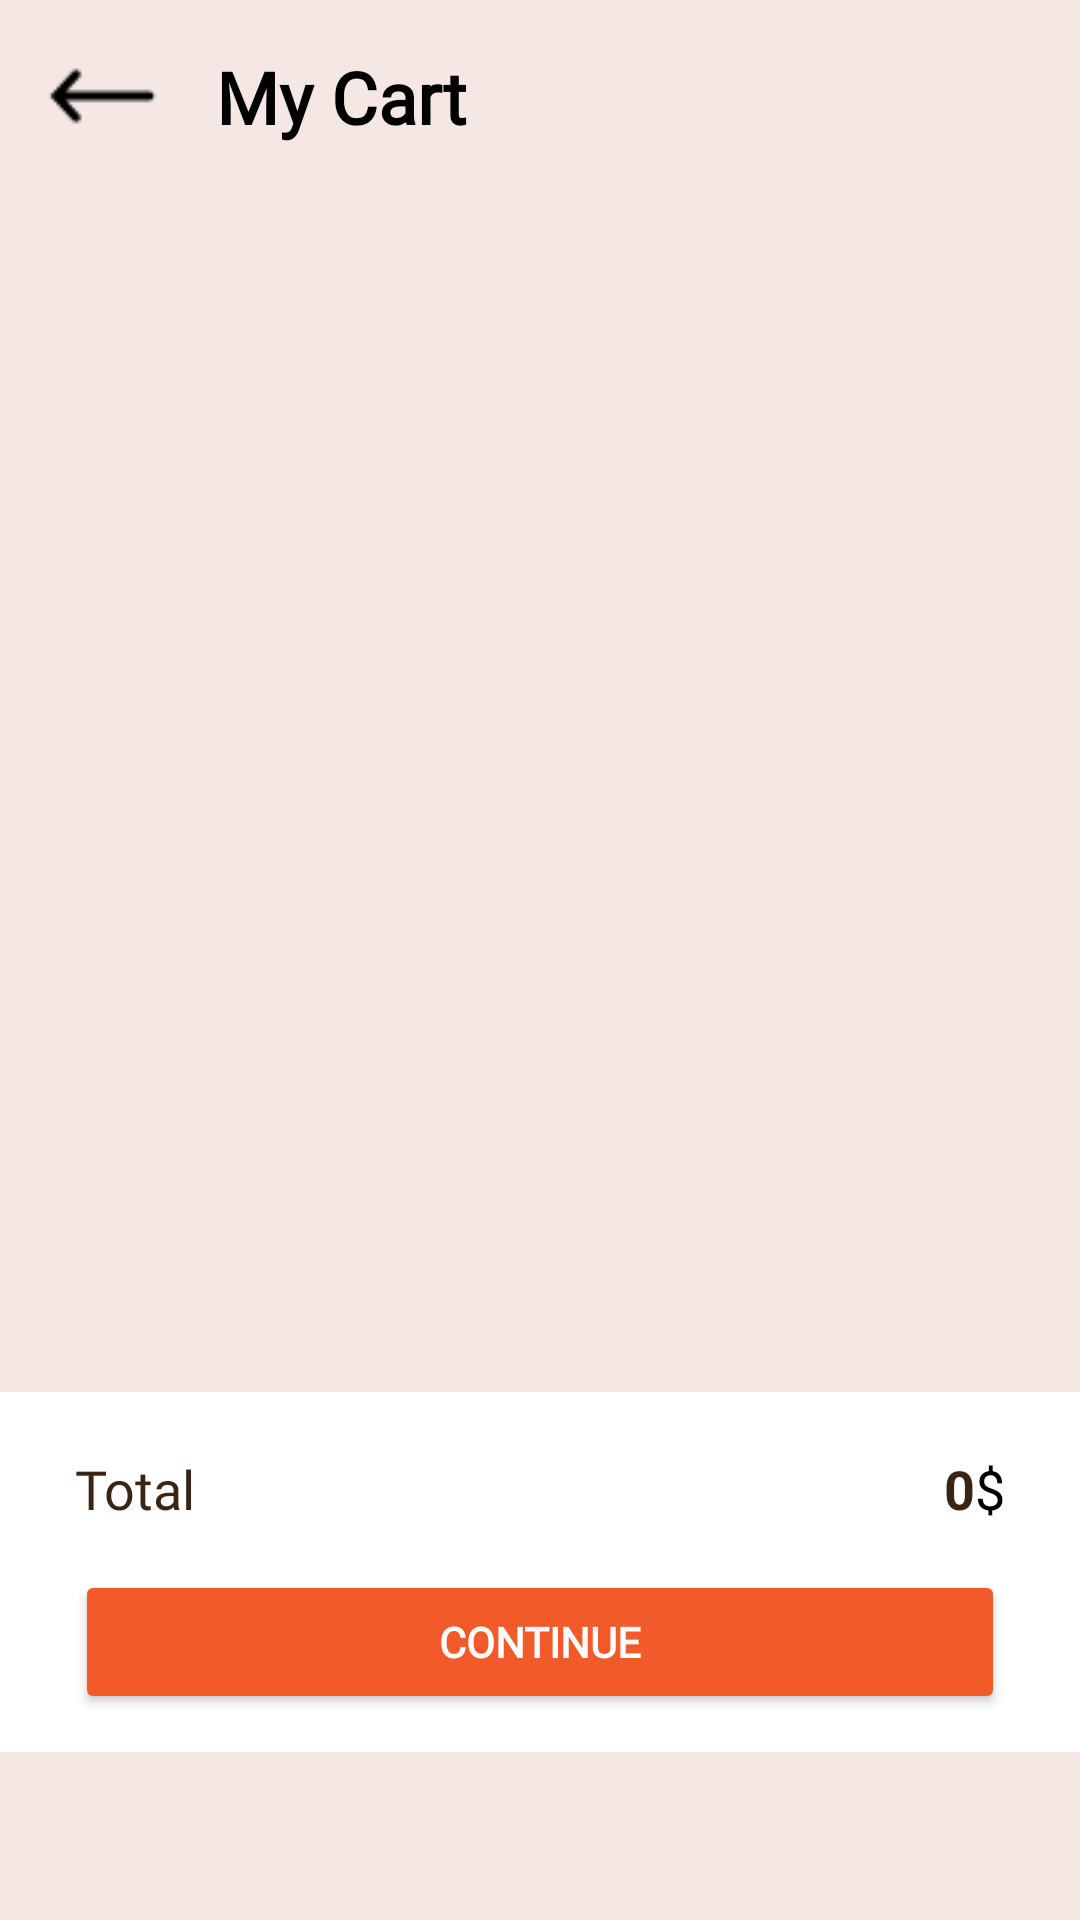

Where to tap for icons on this 1080 x 1920 app screen, as point (x, y):
back: point (103, 96)
